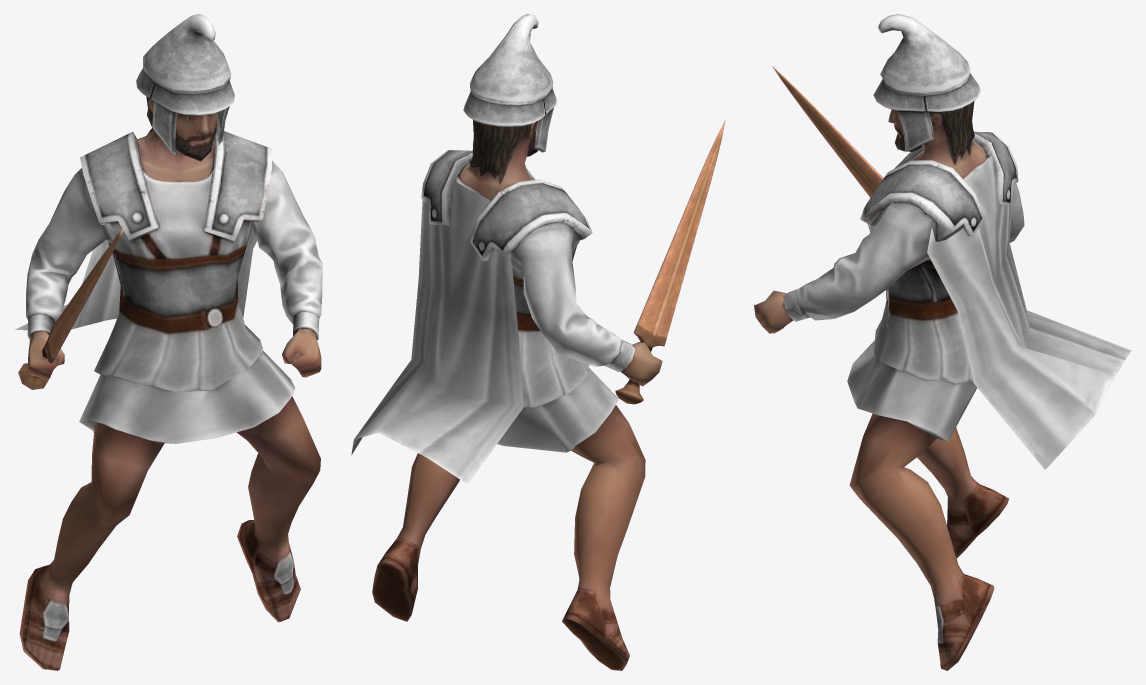
Rendered from rider-mediumcavalry.glb.
The picture shows the model from 3 angles, left to right: view 1: azimuth 30°, elevation 25°; view 2: azimuth 150°, elevation 25°; view 3: azimuth 270°, elevation 25°; orthographic projection. The views are drawn at different scales.
Size of the model in its own units: 1.03 by 2.24 by 1.26.
3 materials, 3 textured.
